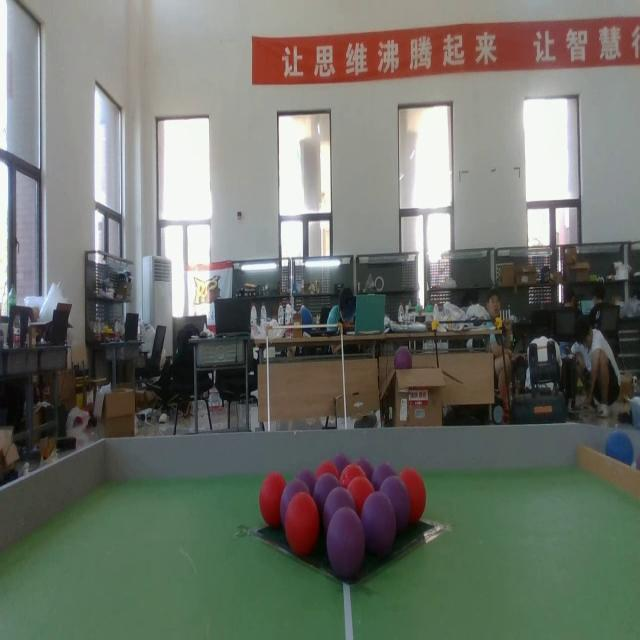blue: (604, 427, 634, 473)
invalid: (360, 492, 397, 554), (330, 508, 365, 572), (382, 474, 408, 528), (282, 478, 308, 526), (323, 484, 352, 526), (314, 474, 339, 506), (352, 448, 373, 481), (373, 462, 395, 491), (299, 466, 315, 490), (332, 453, 348, 477)
red: (284, 487, 321, 556), (259, 471, 286, 526), (399, 467, 425, 521), (341, 463, 365, 488), (348, 480, 373, 504), (316, 459, 339, 482)
